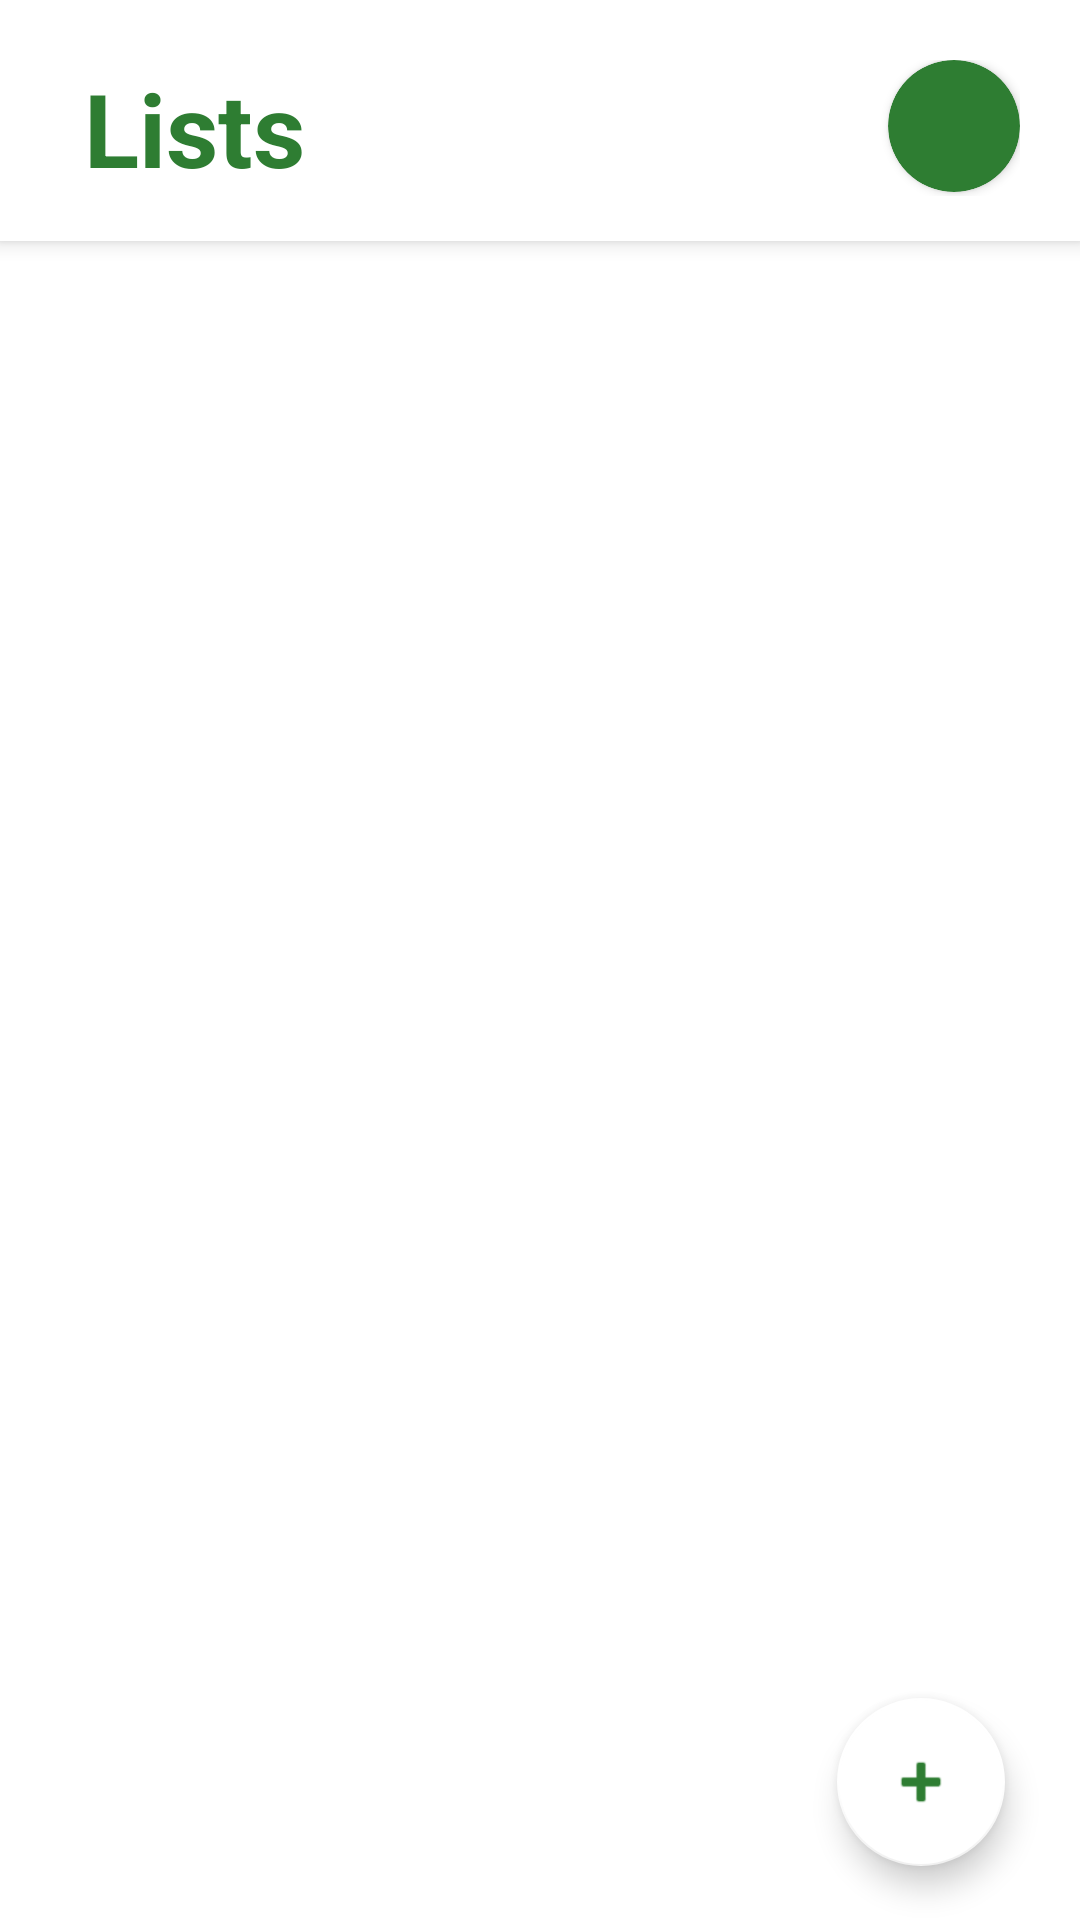

Icons on this 1080px x 1920px Android screen, each with its box as (x1, y1, x2, y2):
add: (842, 1762, 1005, 1866)
